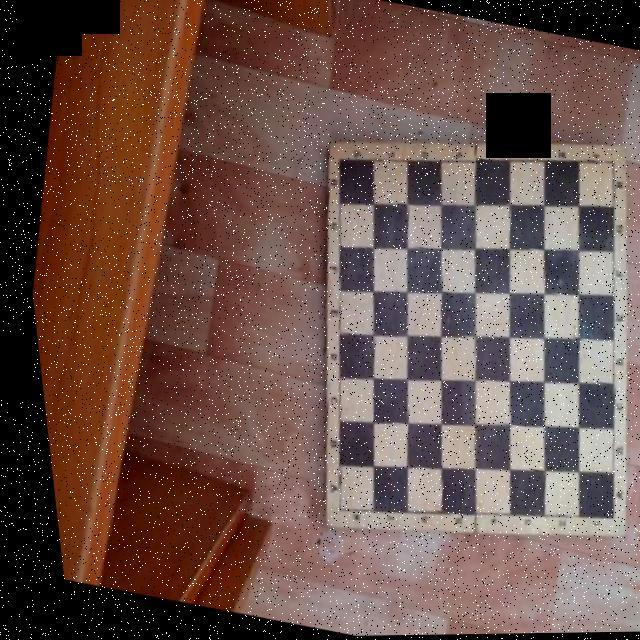chess-table-corners: (576, 489, 624, 542), (584, 140, 630, 188), (316, 139, 358, 188), (308, 488, 352, 534)
